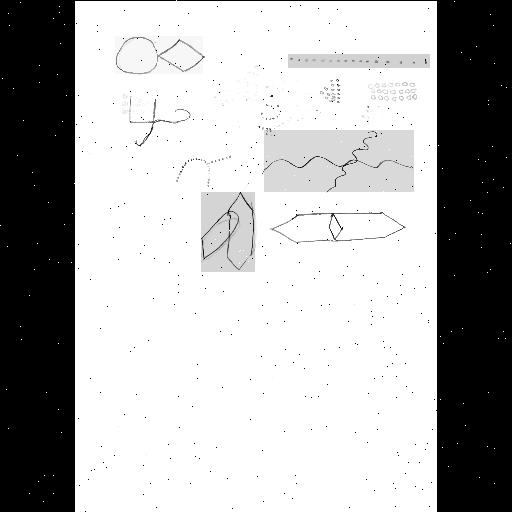shape-1: (115, 36, 203, 74)
shape-2: (288, 54, 430, 68)
shape-3: (366, 79, 418, 103)
shape-4: (258, 92, 284, 132)
shape-5: (128, 92, 192, 148)
shape-6: (174, 151, 232, 187)
shape-7: (264, 130, 414, 192)
shape-8: (201, 192, 255, 272)
shape-9: (272, 209, 406, 243)
